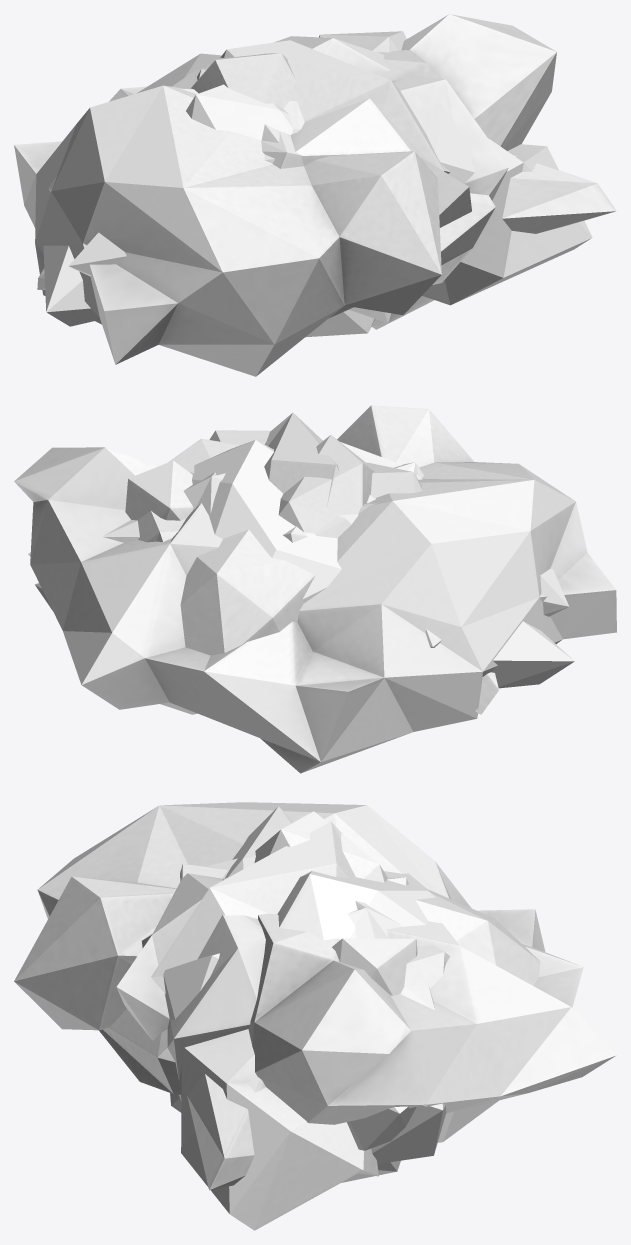
Rendered from Cloud_G.fbx.
The picture shows the model from 3 angles, top to bottom: view 1: azimuth 30°, elevation 25°; view 2: azimuth 150°, elevation 25°; view 3: azimuth 270°, elevation 25°; orthographic projection. The views are drawn at different scales.
Parts seen in each view (by area): view 1: Cloud_07, Cloud_04, Cloud_01, Cloud_06, Cloud_05, Cloud_03, Cloud_02, Cloud_08; view 2: Cloud_07, Cloud_03, Cloud_04, Cloud_02, Cloud_05, Cloud_01, Cloud_08, Cloud_06; view 3: Cloud_07, Cloud_04, Cloud_06, Cloud_05, Cloud_03, Cloud_01, Cloud_08, Cloud_02.
Boxes of the visible parts, box(x1,y1,x2,y2) form: Cloud_07: box(14, 14, 556, 376); Cloud_04: box(172, 36, 508, 318); Cloud_01: box(43, 84, 616, 337); Cloud_06: box(69, 37, 592, 305); Cloud_05: box(220, 40, 450, 329); Cloud_03: box(137, 53, 495, 284); Cloud_02: box(48, 53, 295, 191); Cloud_08: box(37, 31, 406, 289); Cloud_07: box(14, 405, 616, 773); Cloud_03: box(180, 462, 424, 655); Cloud_04: box(160, 430, 422, 714); Cloud_02: box(103, 435, 441, 647); Cloud_05: box(35, 413, 339, 610); Cloud_01: box(366, 462, 574, 688); Cloud_08: box(28, 460, 498, 714); Cloud_06: box(183, 472, 569, 616); Cloud_07: box(14, 802, 616, 1124); Cloud_04: box(116, 858, 498, 1142); Cloud_06: box(163, 876, 401, 1230); Cloud_05: box(151, 821, 450, 1163); Cloud_03: box(99, 864, 540, 1094); Cloud_01: box(187, 806, 293, 1190); Cloud_08: box(332, 938, 417, 1150); Cloud_02: box(254, 811, 434, 1182).
Size of the model in its own units: 1595 by 796 by 1484.
